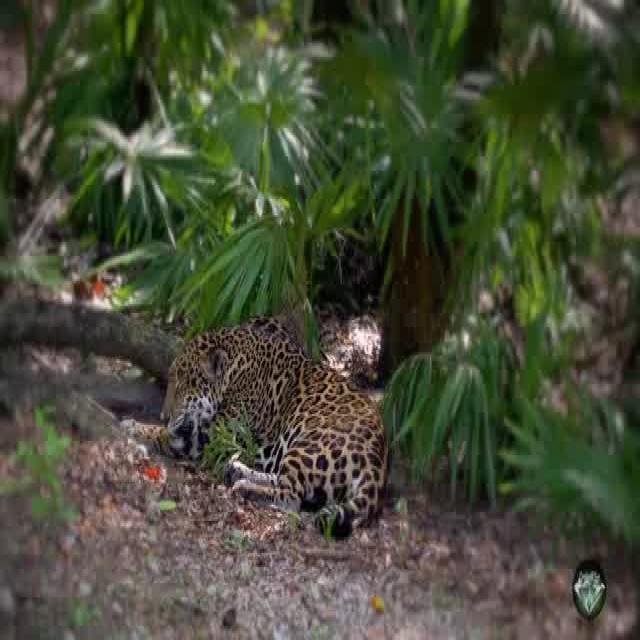Jaguar: (160, 313, 389, 544)
